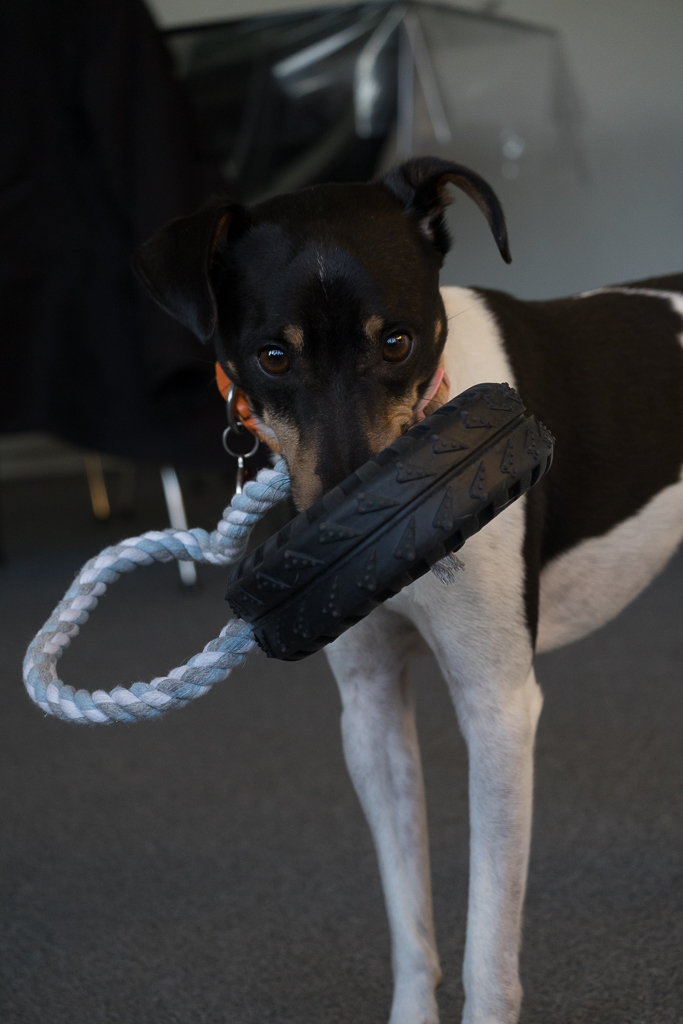Dog: (114, 140, 683, 1020)
